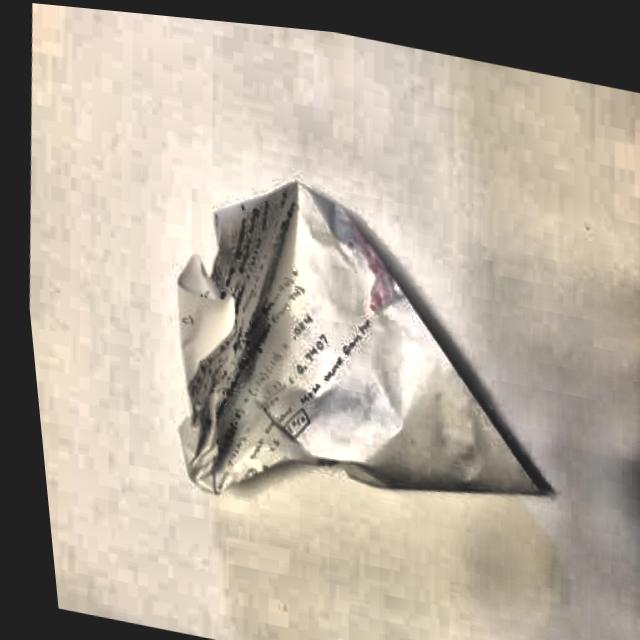Paper: (136, 144, 577, 555)
